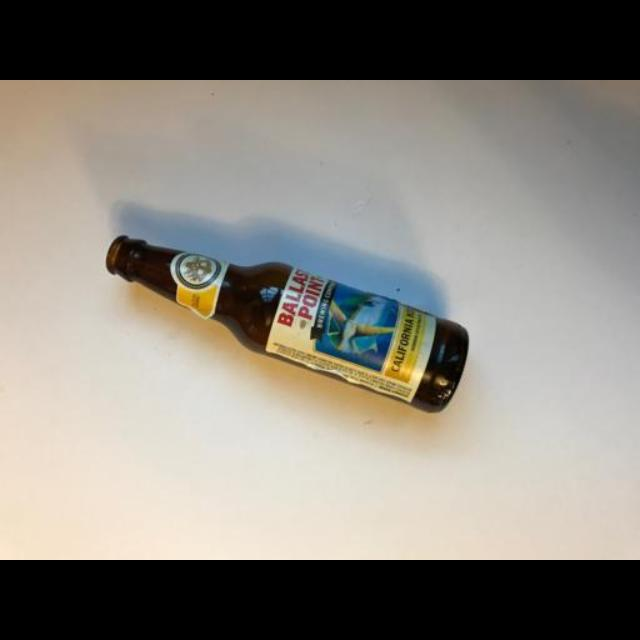garrafa de vidro: (102, 232, 472, 416)
